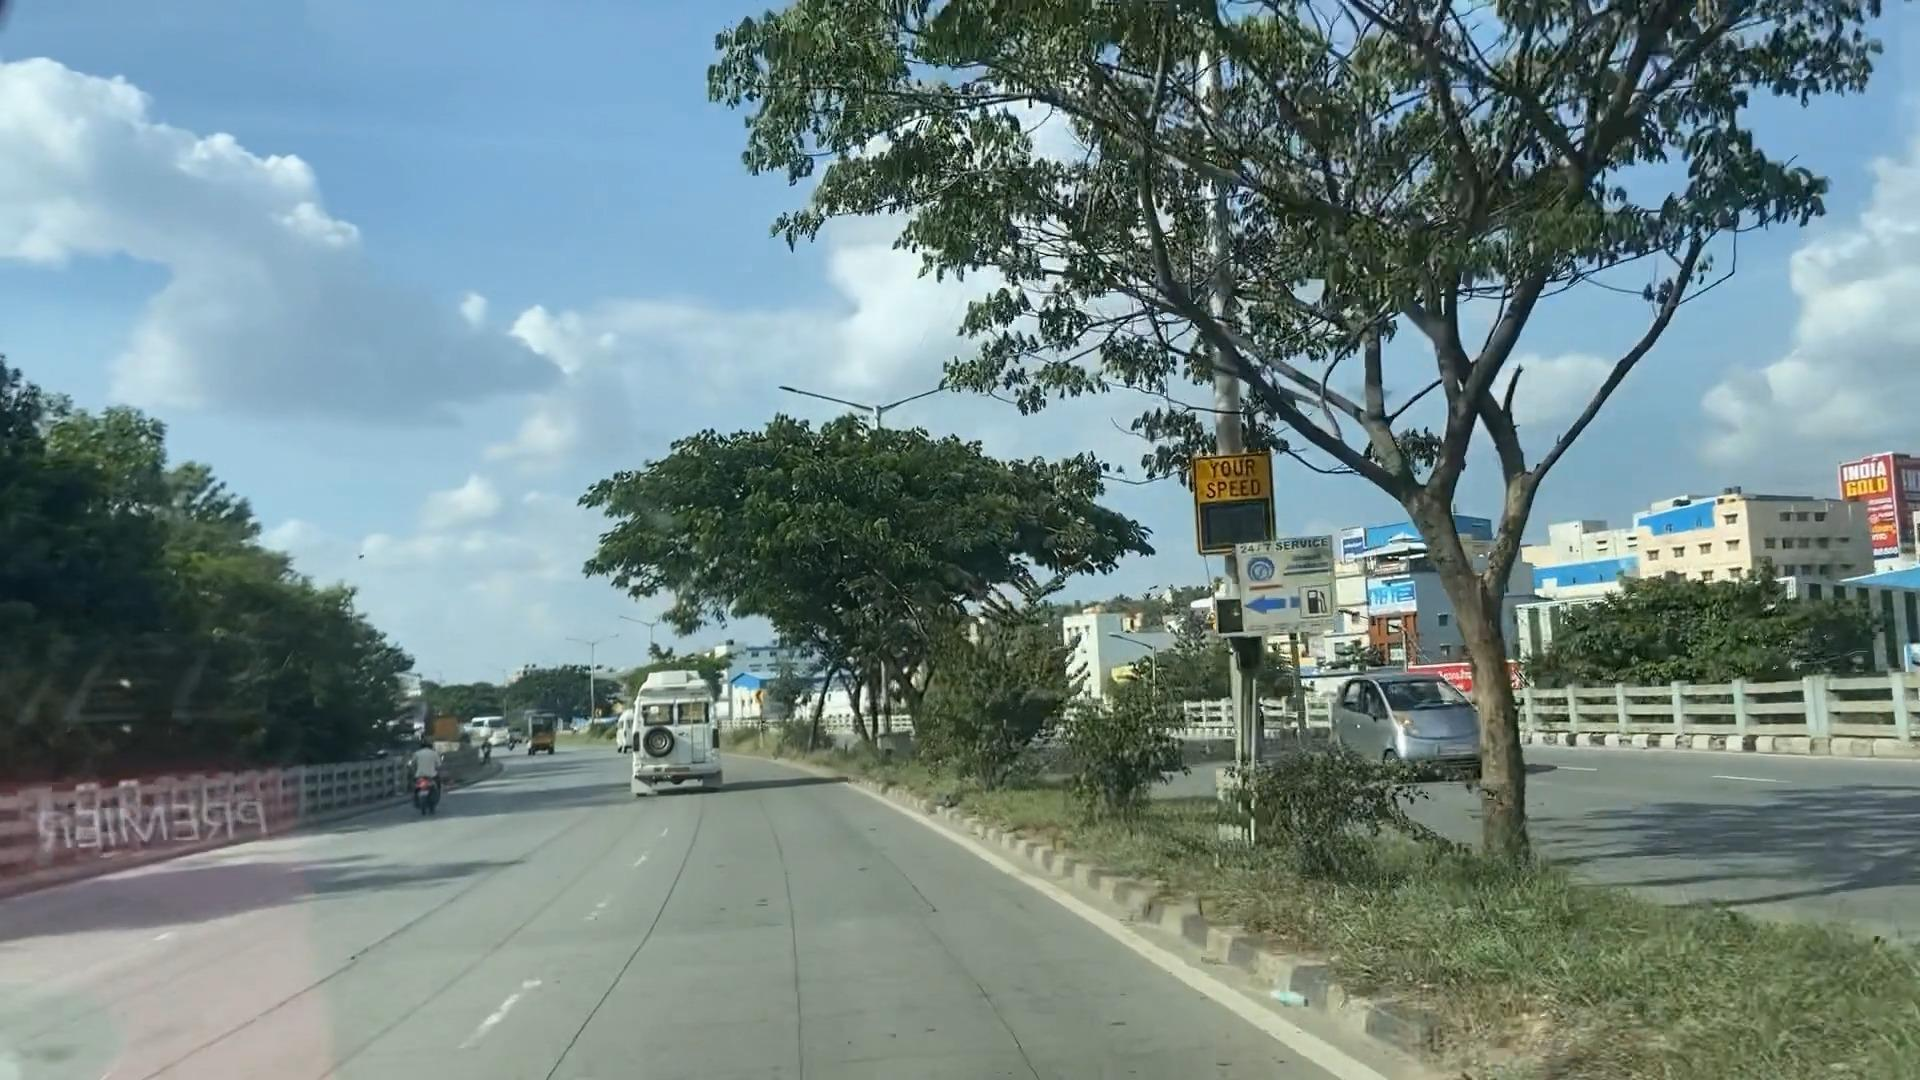HMV: (620, 666, 732, 797)
